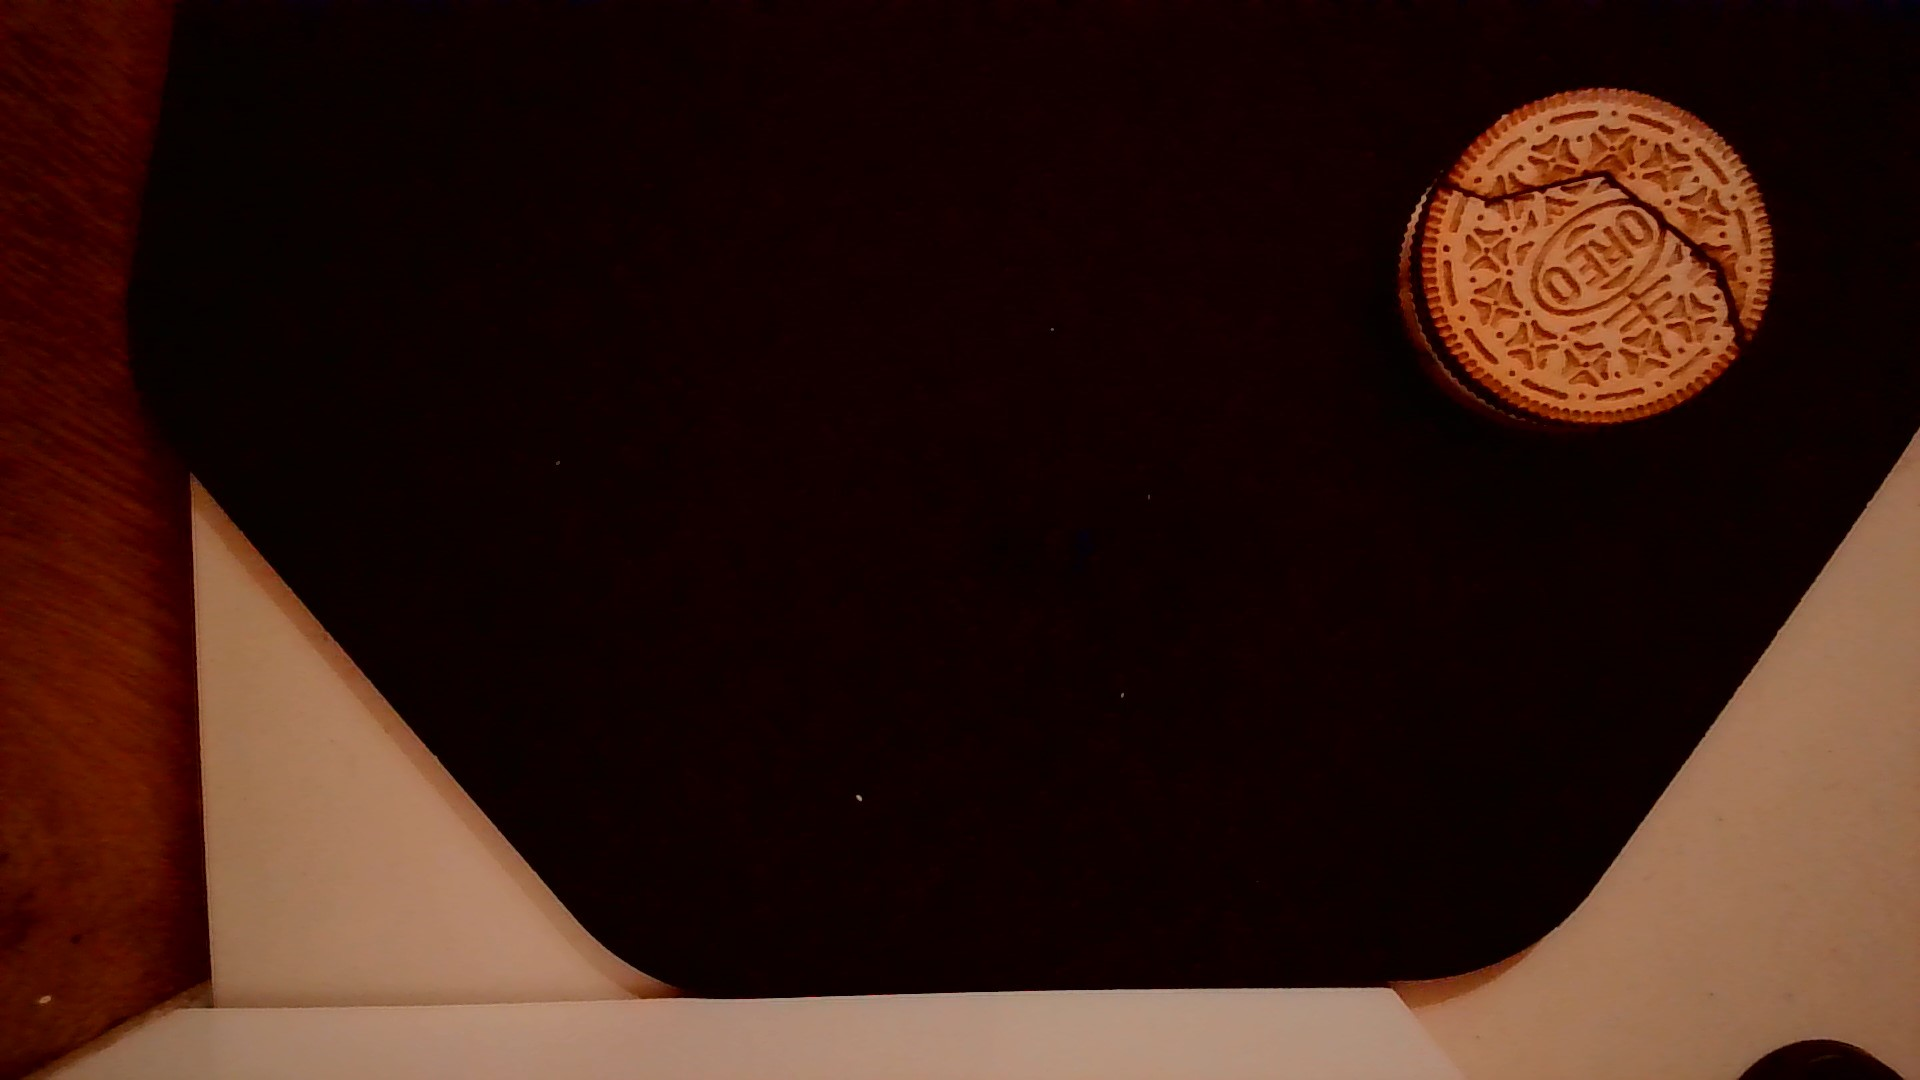Fissure: (1418, 164, 1753, 367)
Oréo: (1386, 80, 1778, 436)
